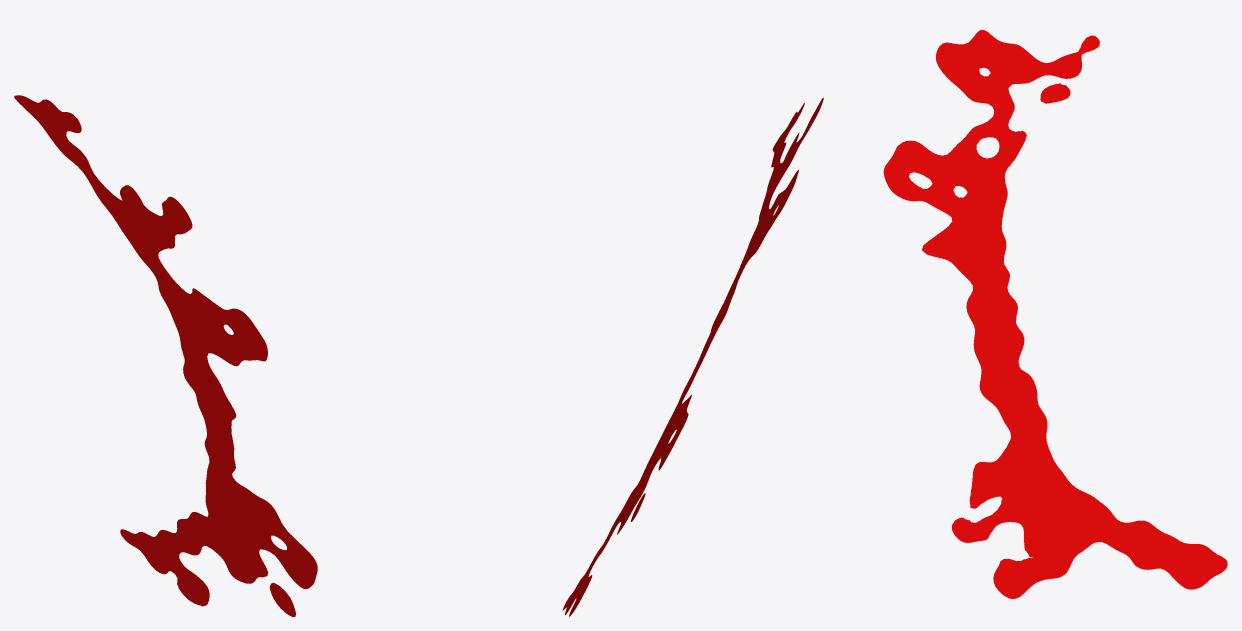
3 views of the same model, side by side, from view 1: azimuth 30°, elevation 25°; view 2: azimuth 150°, elevation 25°; view 3: azimuth 270°, elevation 25° (orthographic). The views are drawn at different scales.
Parts seen in each view (by area): view 1: cap far; view 2: cap far; view 3: cap near.
Boxes of the visible parts, x1,y1,x2,y2 form: cap far: [14, 95, 317, 616]; cap far: [562, 97, 823, 616]; cap near: [883, 30, 1227, 598].
Bounding box in the file's own units: 285 × 508 × 310.
